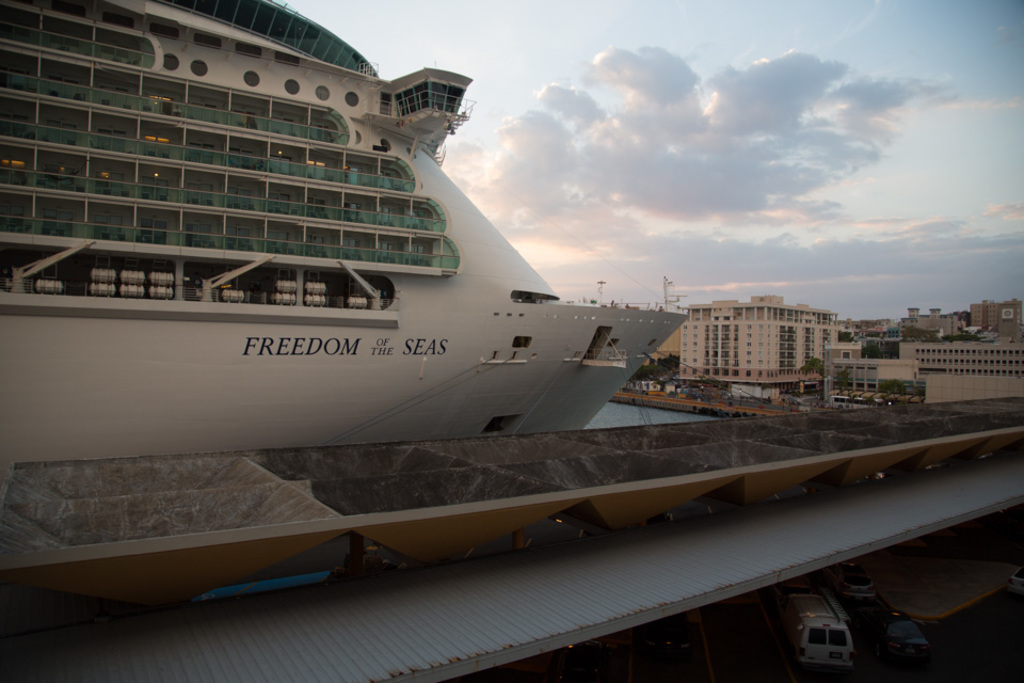Car: (875, 608, 930, 669), (824, 565, 874, 601), (1004, 566, 1022, 597)
